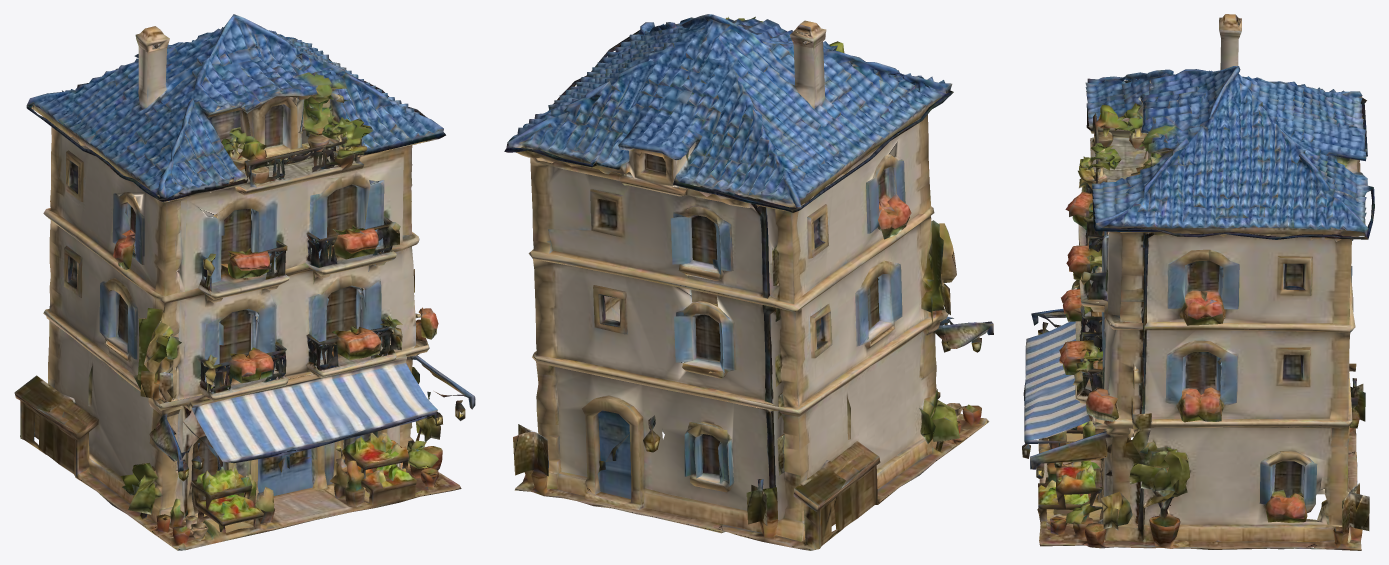
3 renders of one model, left to right at view 1: azimuth 30°, elevation 25°; view 2: azimuth 150°, elevation 25°; view 3: azimuth 270°, elevation 25°, orthographic. The views are drawn at different scales.
Parts seen in each view (by area): view 1: harbor__shop_3__native_mobile; view 2: harbor__shop_3__native_mobile; view 3: harbor__shop_3__native_mobile.
Part boxes in pixels (x1,y1,x2,y2): harbor__shop_3__native_mobile: [14, 14, 475, 550]; harbor__shop_3__native_mobile: [504, 14, 993, 550]; harbor__shop_3__native_mobile: [1022, 14, 1374, 550].
Bounding box in the file's own units: 0.7339 × 1 × 0.7372.
Materials: 1 (1 with a texture image).
